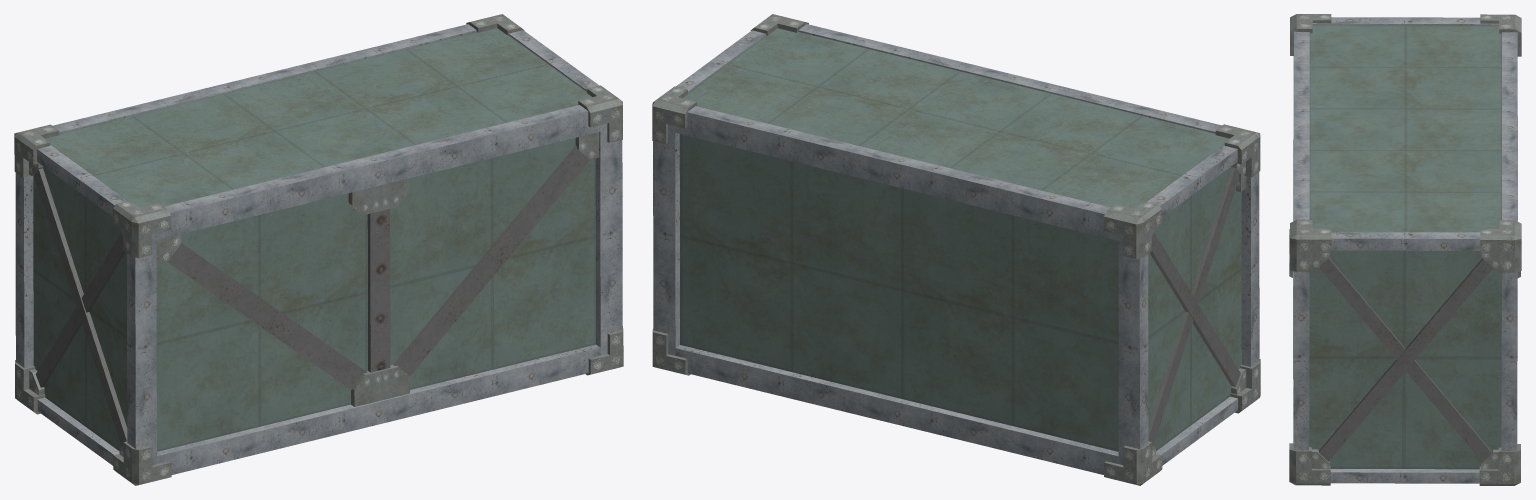
Rendered from Ob_Crate1_RC.fbx.
The picture shows the model from 3 angles, left to right: view 1: azimuth 30°, elevation 25°; view 2: azimuth 150°, elevation 25°; view 3: azimuth 270°, elevation 25°; orthographic projection. The views are drawn at different scales.
Parts seen in each view (by area): view 1: Ob_Crate1_RC; view 2: Ob_Crate1_RC; view 3: Ob_Crate1_RC.
Part boxes in pixels (box(x1,y1,x2,y2)): Ob_Crate1_RC: box(14, 14, 623, 485); Ob_Crate1_RC: box(652, 14, 1260, 485); Ob_Crate1_RC: box(1289, 14, 1521, 485).
Size of the model in its own units: 1906 by 997 by 836.
